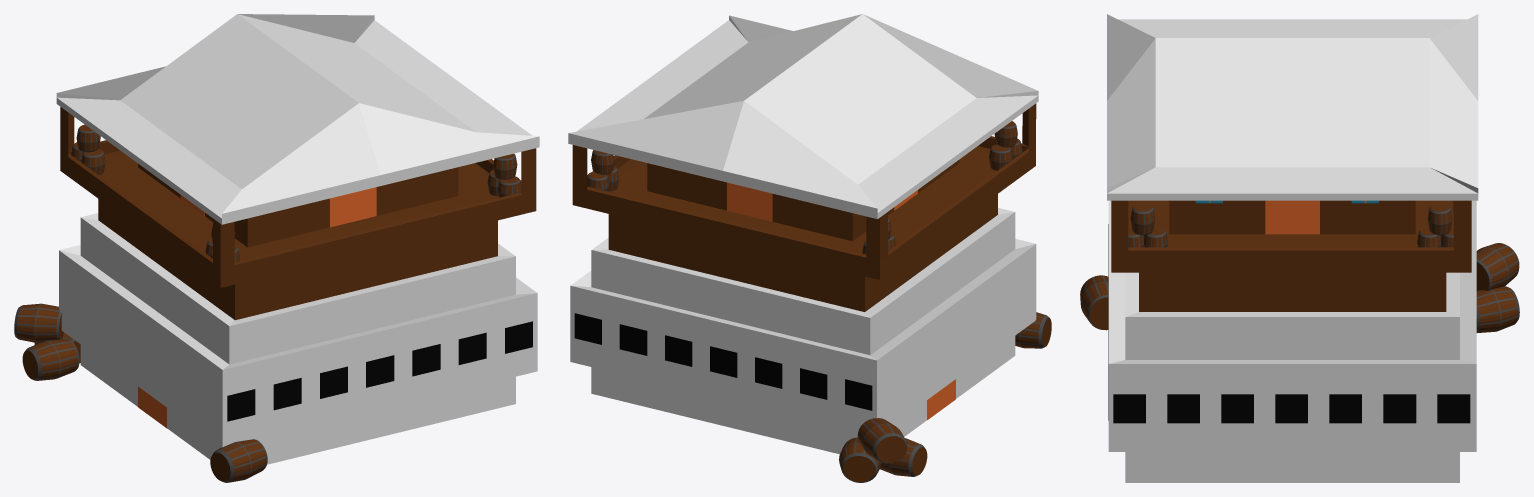
Rendered from CorsáriocaComidaFinal.fbx.
The picture shows the model from 3 angles, left to right: view 1: azimuth 30°, elevation 25°; view 2: azimuth 150°, elevation 25°; view 3: azimuth 270°, elevation 25°; orthographic projection. The views are drawn at different scales.
Parts seen in each view (by area): view 1: Cube.001; view 2: Cube.001; view 3: Cube.001.
Boxes of the visible parts, x1,y1,x2,y2 form: Cube.001: (14, 14, 539, 482); Cube.001: (568, 14, 1051, 482); Cube.001: (1080, 14, 1519, 482).
Size of the model in its own units: 1060 by 948 by 1015.
